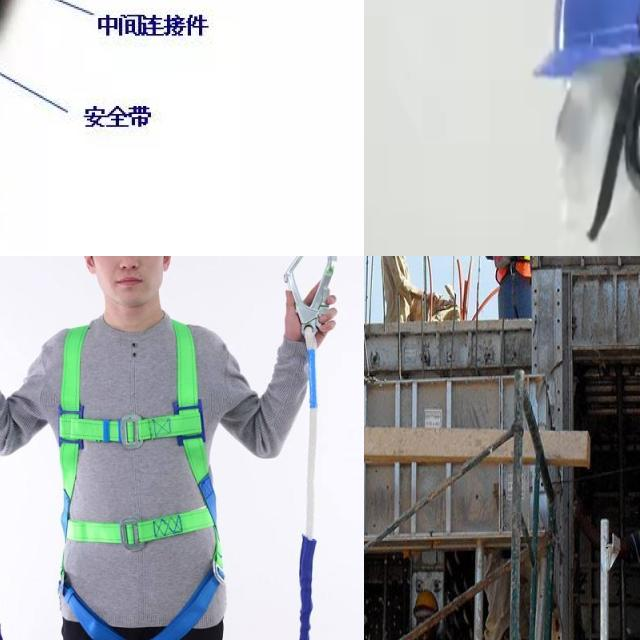Harness: (51, 320, 222, 640), (281, 256, 339, 354)
No_Ear-Protection: (81, 256, 95, 270), (161, 256, 173, 272)
head_helmet: (525, 0, 640, 66), (412, 592, 438, 612)
person: (378, 256, 438, 322), (488, 256, 541, 312)
vest: (498, 256, 534, 279)
